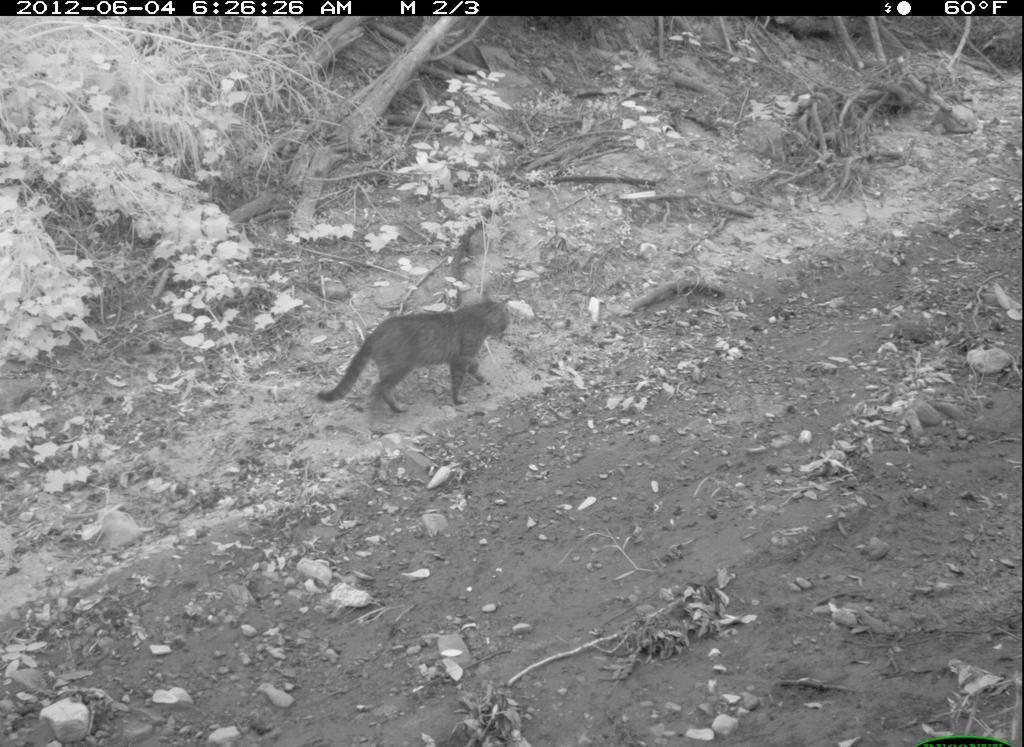cat: (319, 299, 520, 418)
